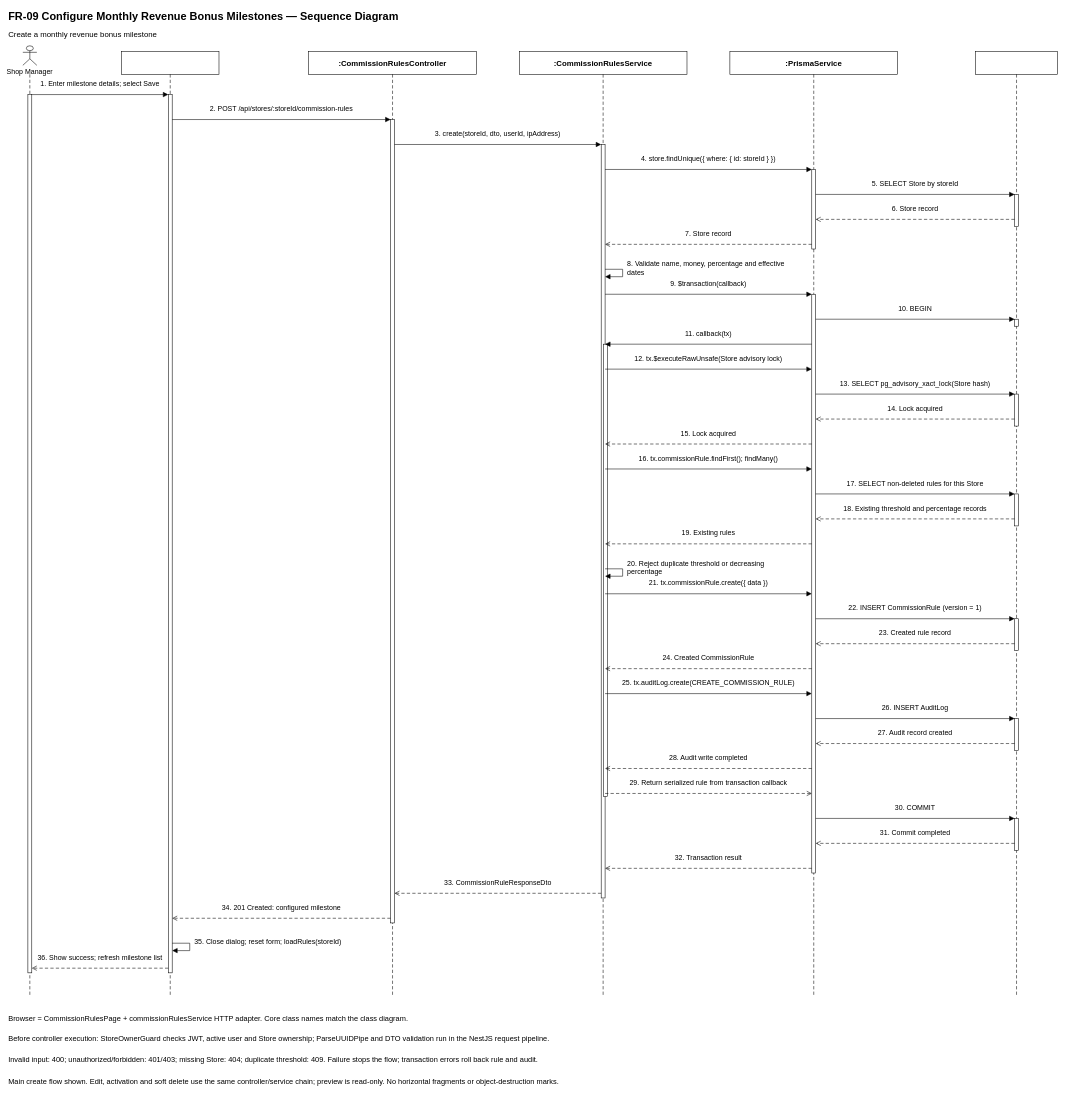
This 1088x1096 diagram has some shape labels left out. Each missing label, with the box of its shape:
Browser: (121, 51, 219, 74)
Database: (975, 51, 1058, 74)
